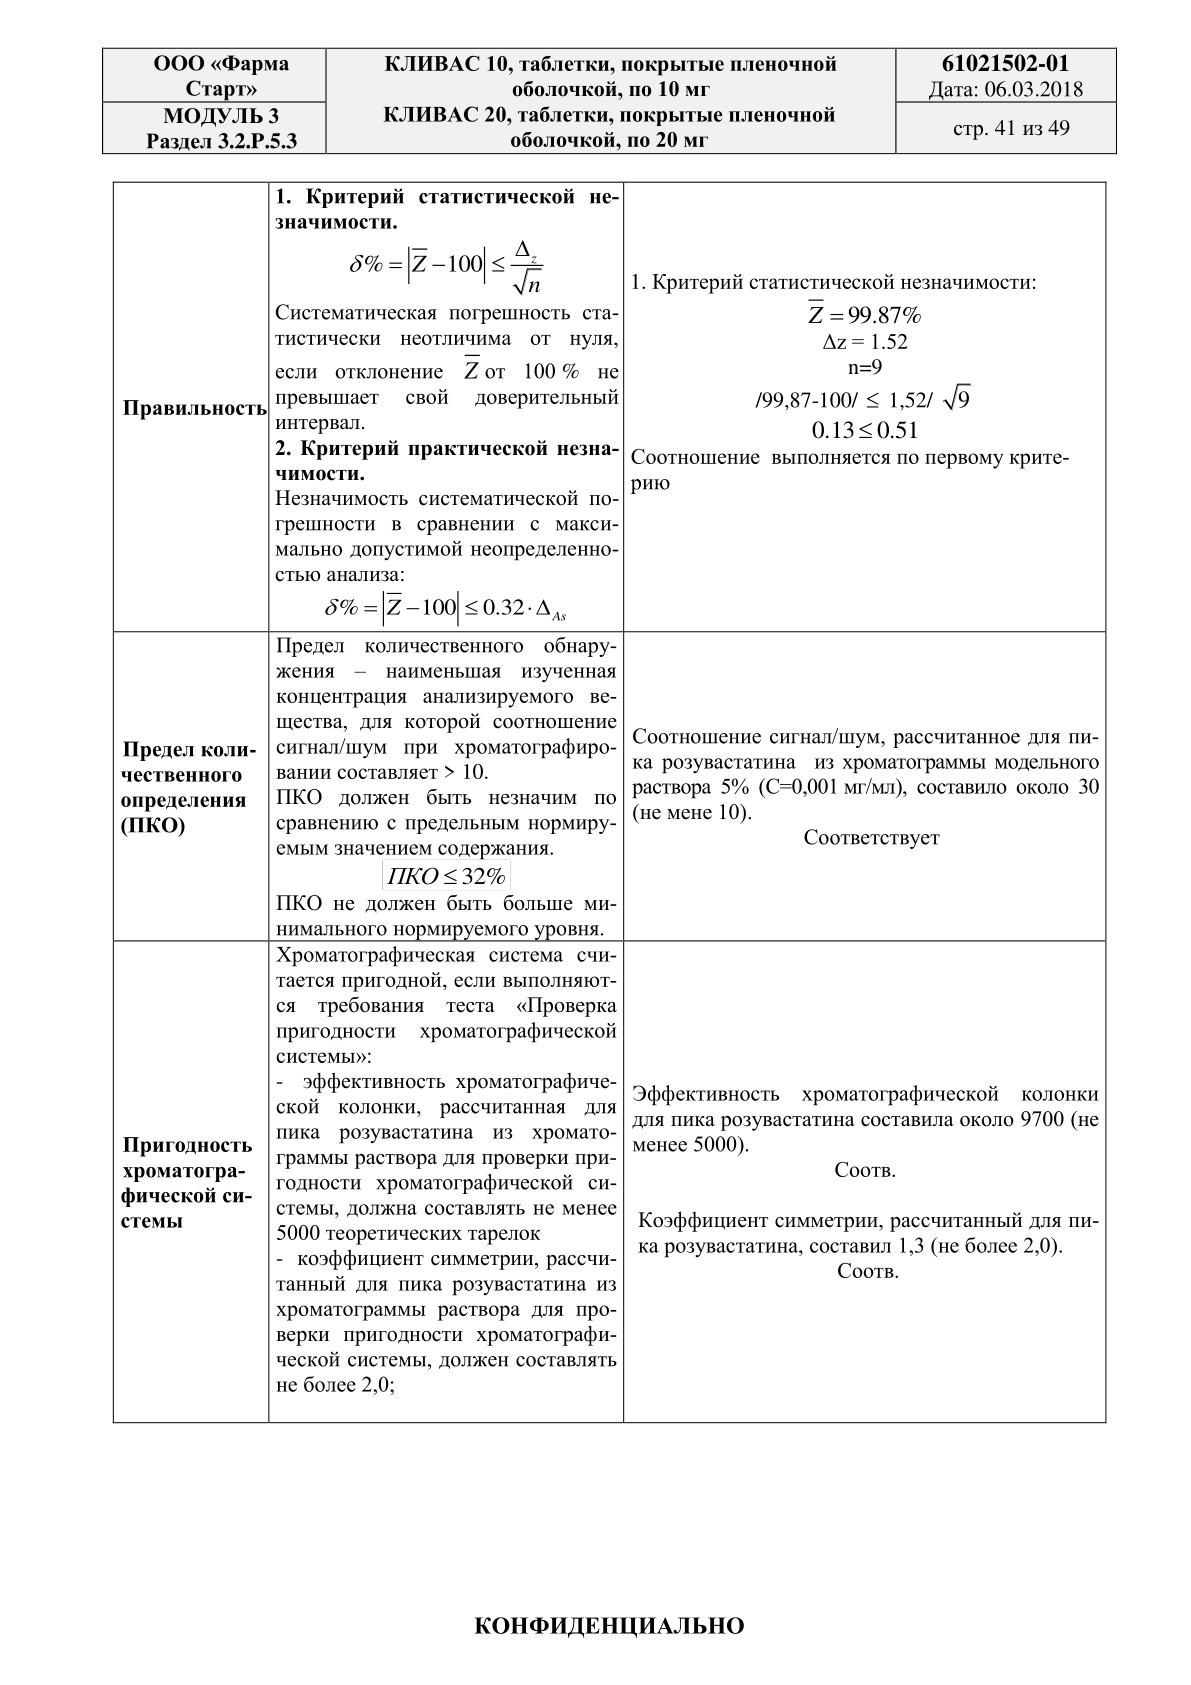full_lined: (112, 180, 1107, 1425)
merged_cells: (102, 46, 1118, 155)
